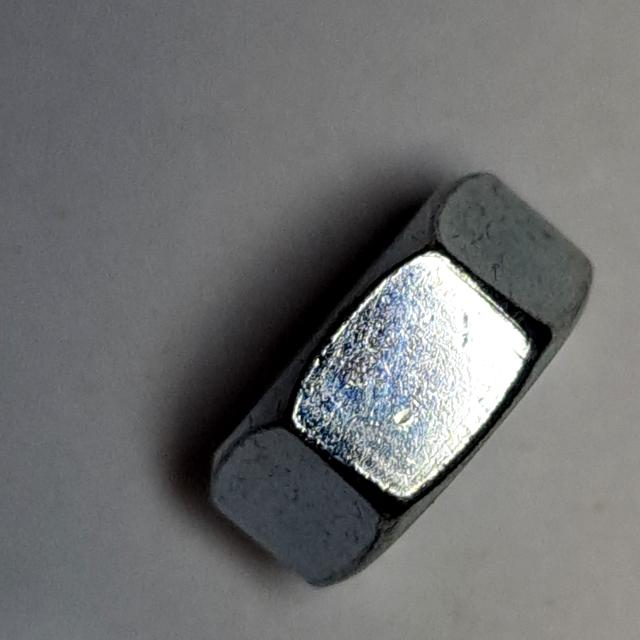Side_Excellent: (203, 156, 608, 601)
